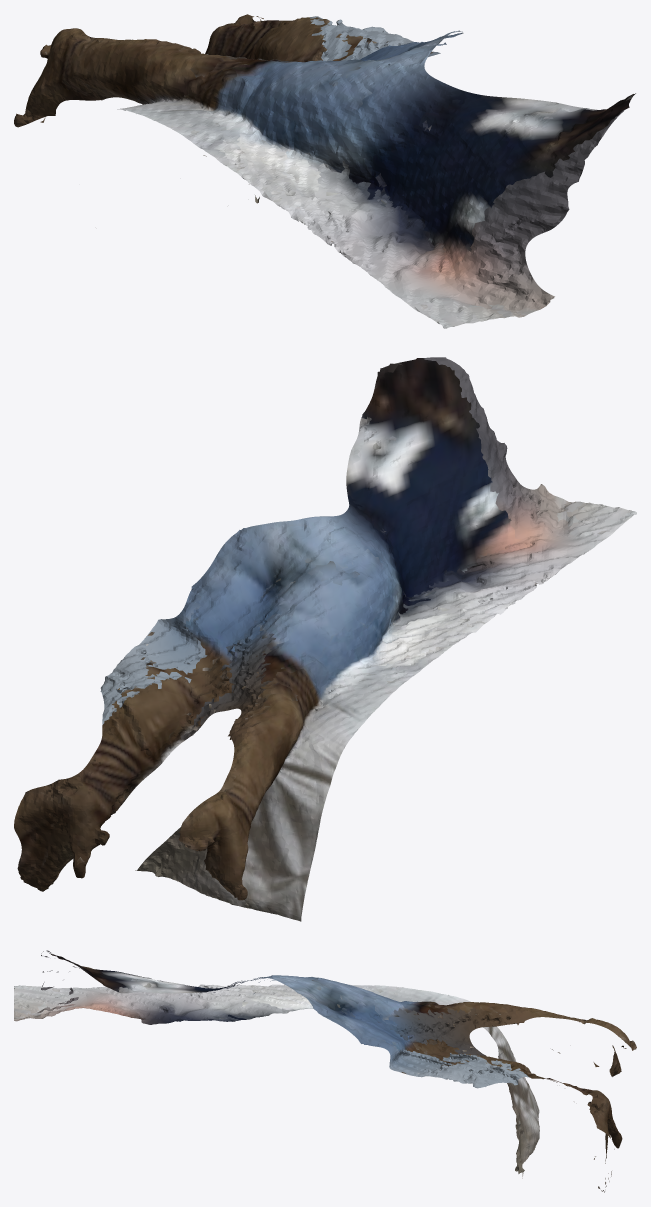
3 renders of one model, top to bottom at view 1: azimuth 30°, elevation 25°; view 2: azimuth 150°, elevation 25°; view 3: azimuth 270°, elevation 25°, orthographic. The views are drawn at different scales.
Bounding box in the file's own units: 0.5355 × 0.6252 × 1.55.
1 material, 1 textured.
